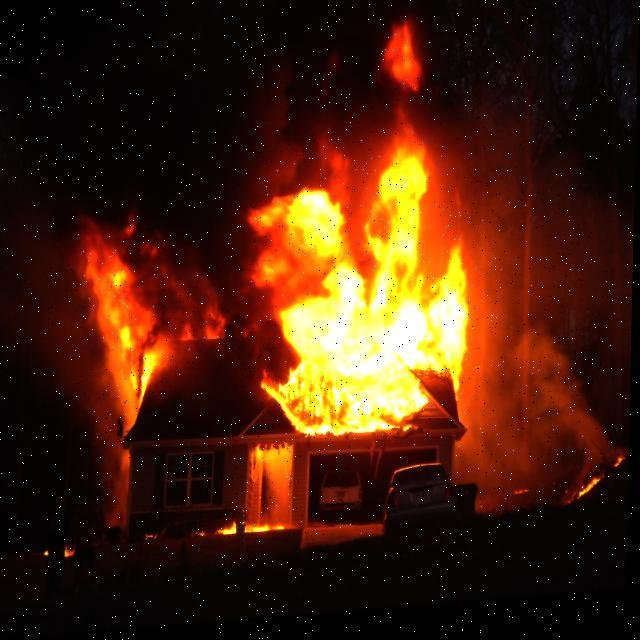Fire: (56, 21, 620, 568)
